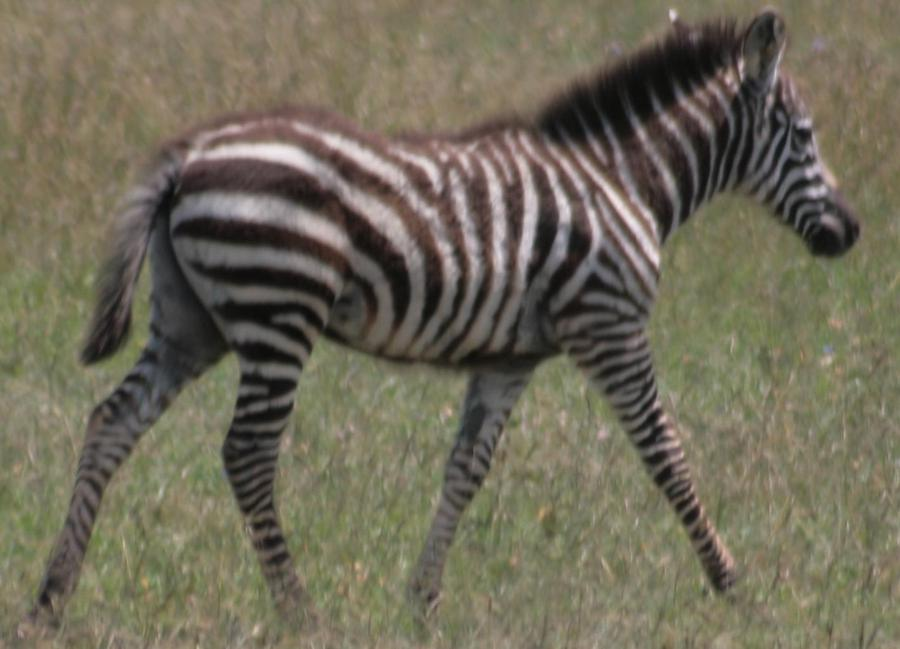zebra_plains: (180, 62, 682, 384)
